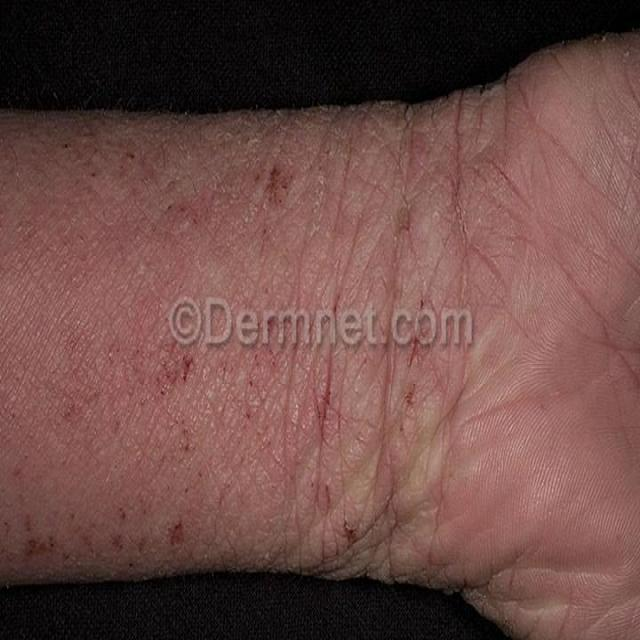liquenificacion 1: (281, 72, 523, 640)
liquenificacion 2: (281, 72, 523, 640)
liquenificacion 3: (281, 72, 523, 640)
